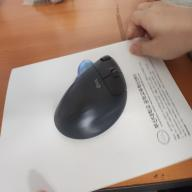mouse: (54, 54, 127, 139)
